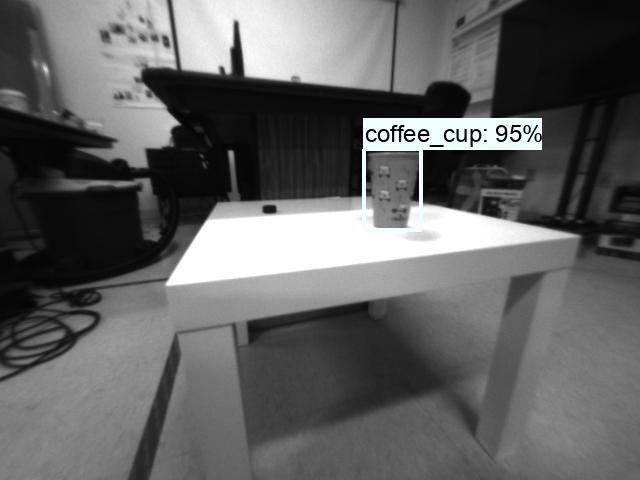coffee_cup: (364, 149, 425, 233)
